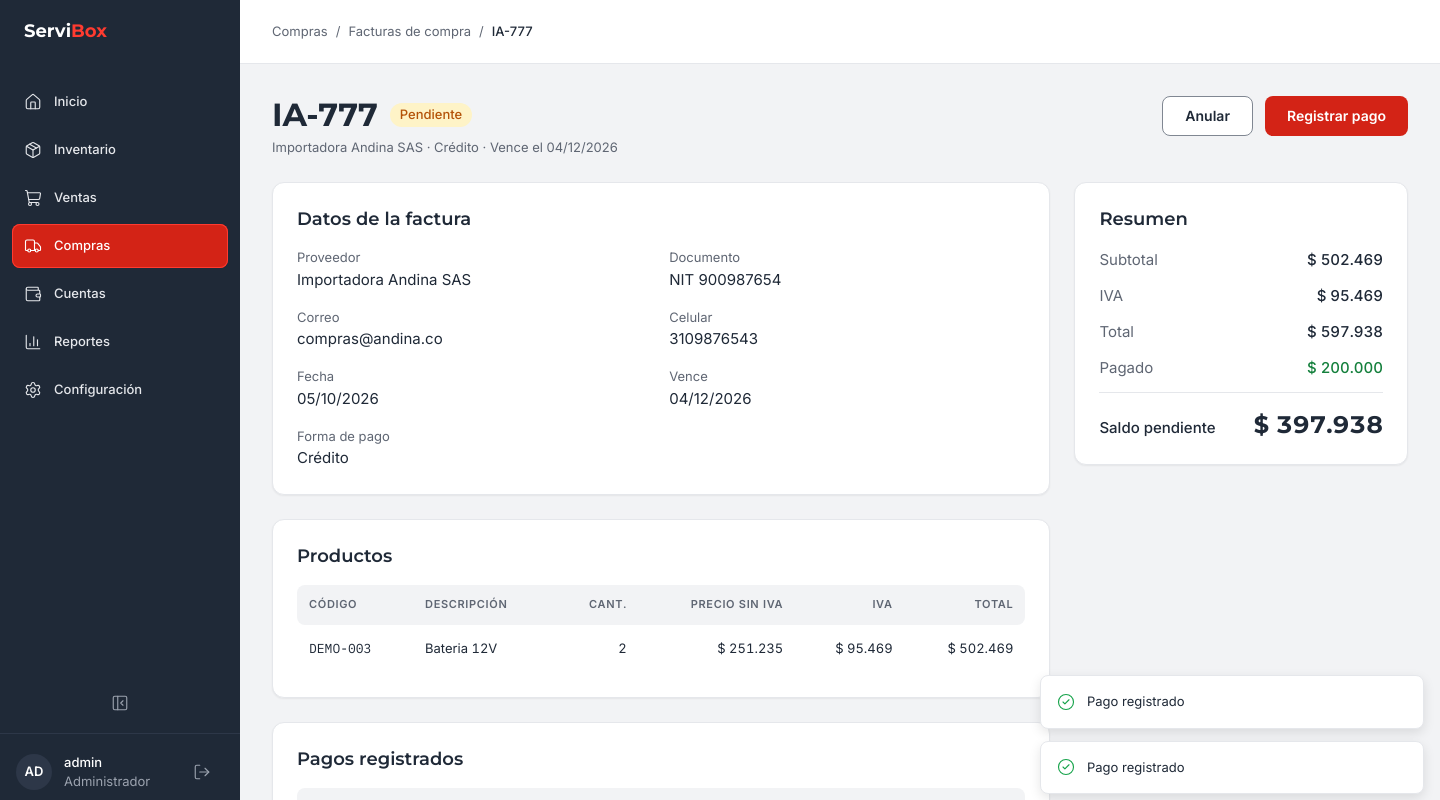
Test: detalle de factura de compra › anular: texto verificado, foco en Cancelar, confirma una sola vez y vuelve al listado
The image size is (1440, 800).
Click the button "Anular" at x=1208, y=116, box [1162,96,1253,136]
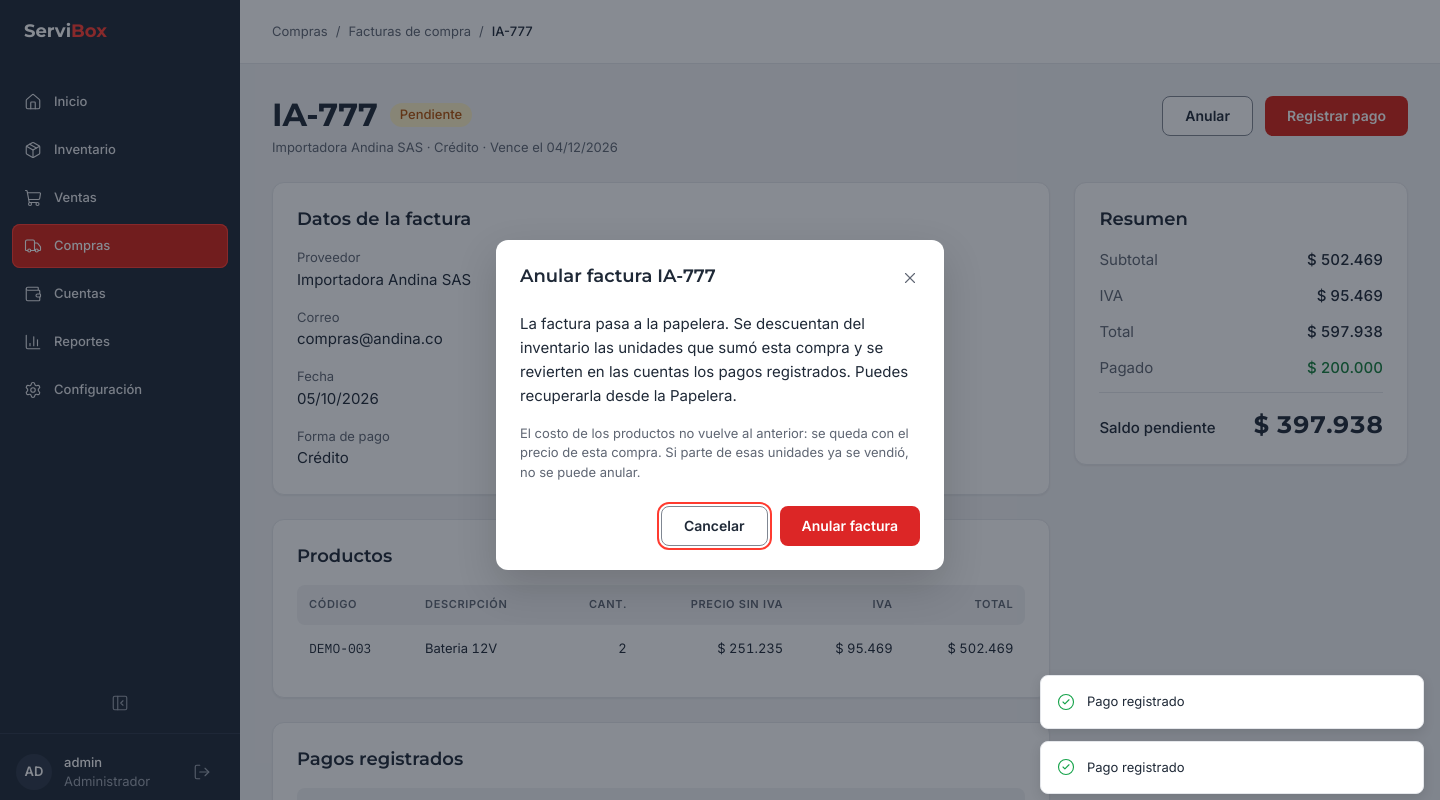
Now the text "pasa a la papelera" shows "Se descuentan del inventario las unidades que sumó esta compra y se revierten en las cuentas los pagos registrados. Puedes recuperarla desde la Papelera.", box [520,314,908,405]
Now the text "El costo de los productos no vuelve al anterior" shows "Si parte de esas unidades ya se vendió, no se puede anular.", box [520,425,909,480]
Click the button "Cancelar" at x=714, y=526, box [661,506,768,546]
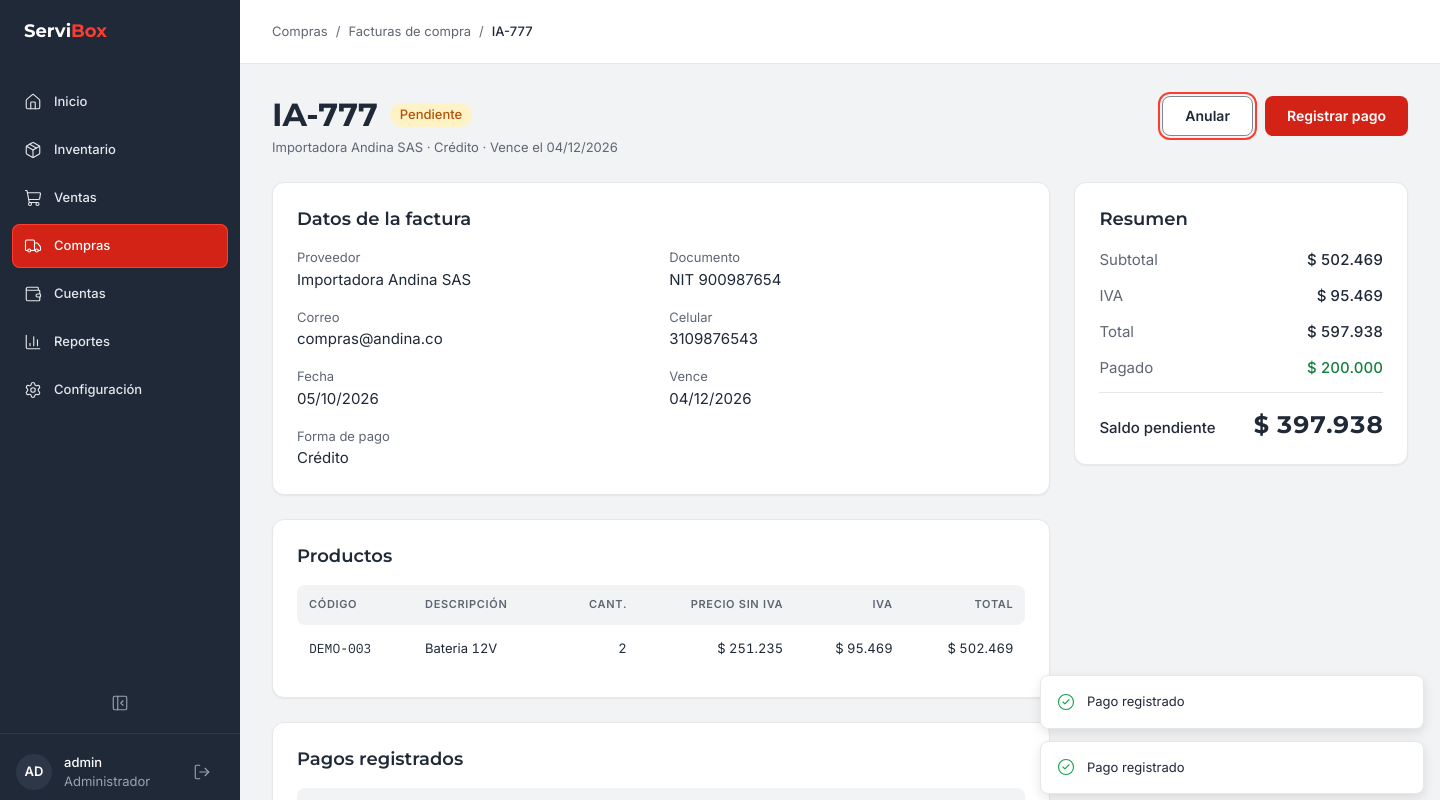
Now the dialog is gone
Click the button "Anular" at x=1208, y=116, box [1162,96,1253,136]
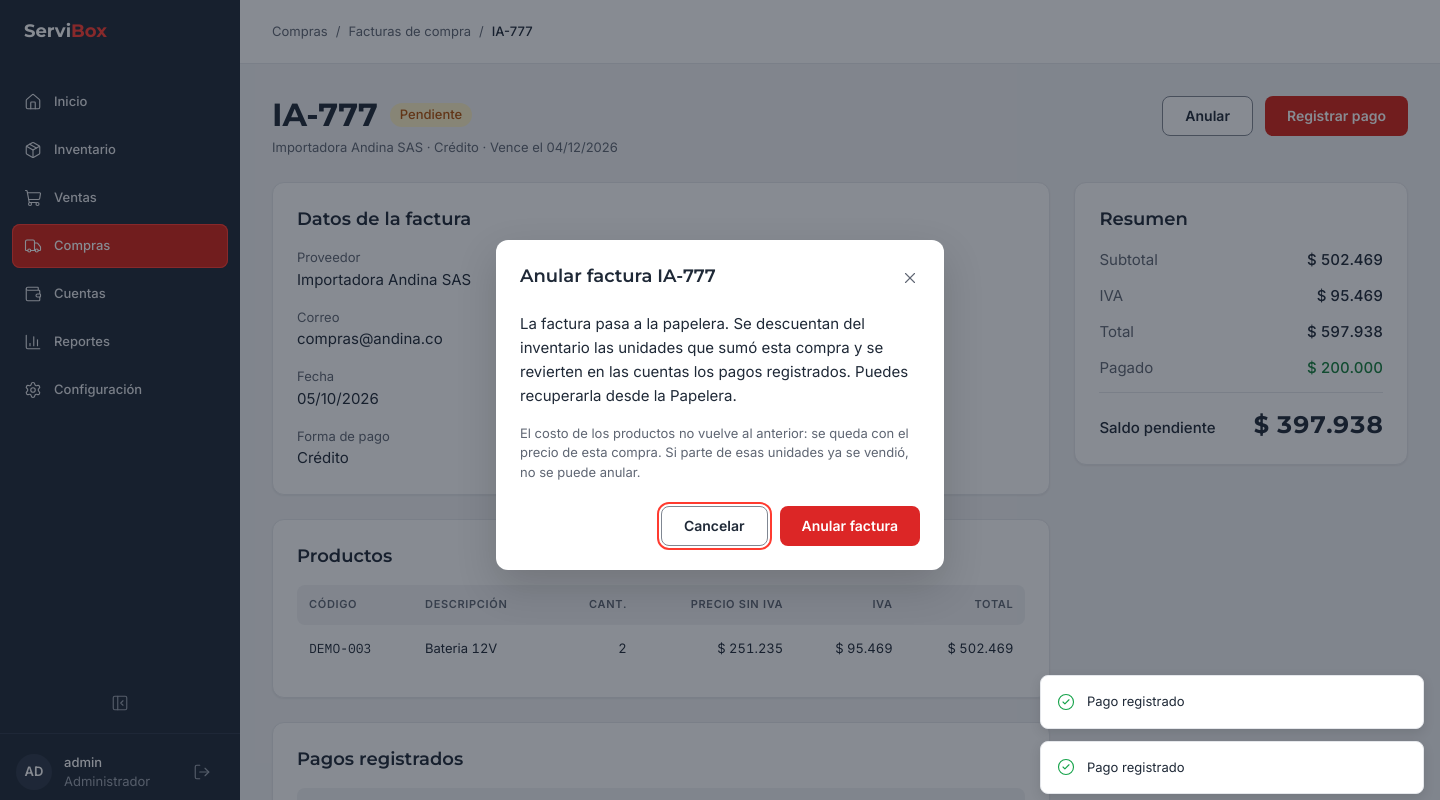
Double-click the button "Anular factura" at x=850, y=526, box [780,506,920,546]
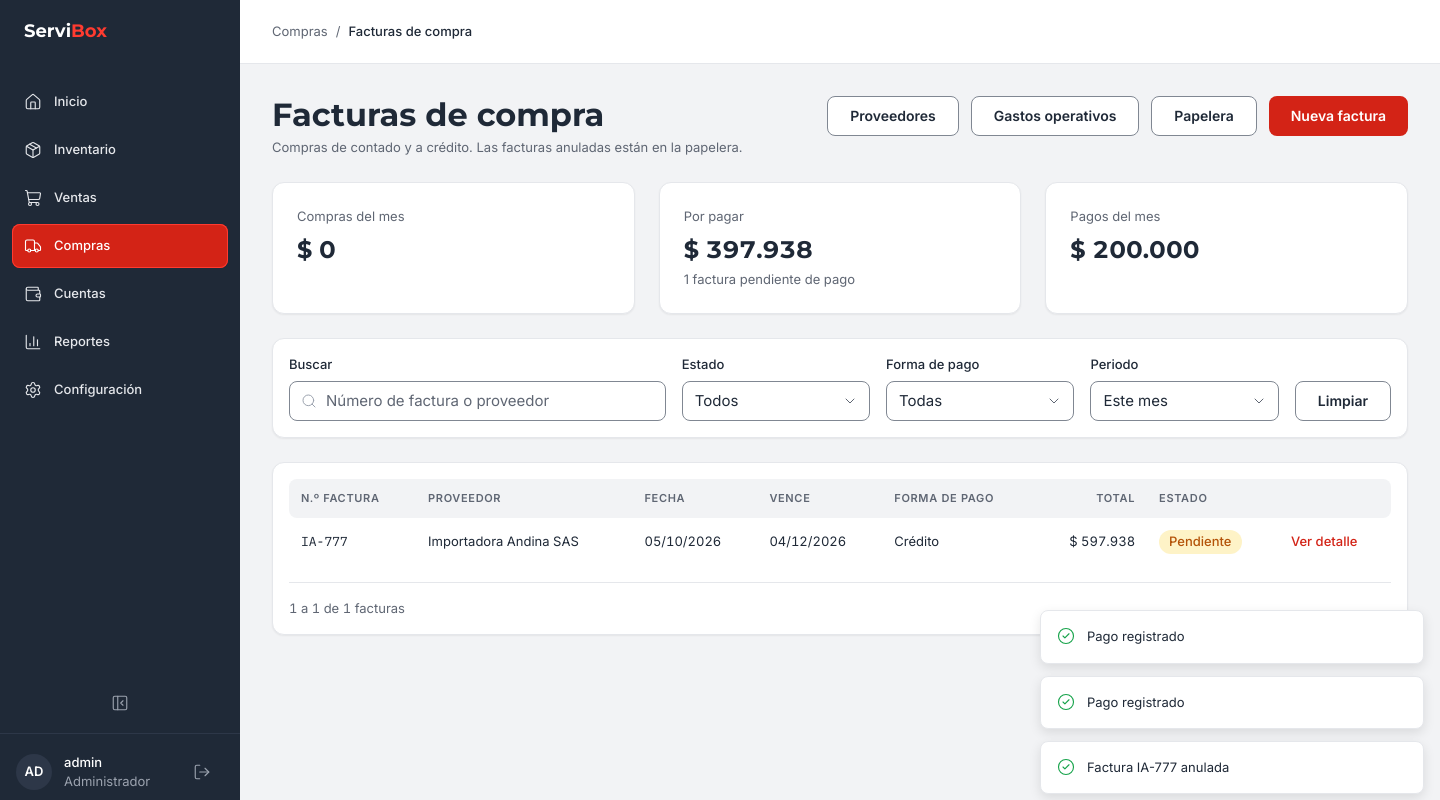
Now the text "Factura IA-777 anulada" is shown, box [1087,758,1229,777]
